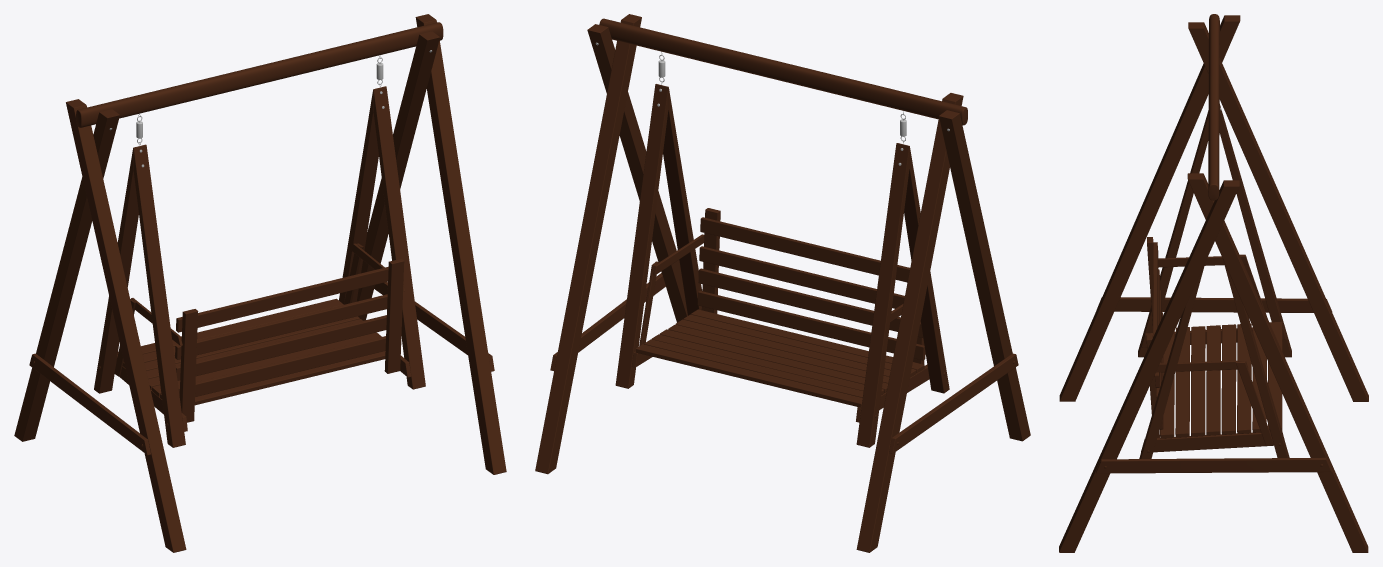
The model's file is qiuqian2.fbx.
The picture shows the model from 3 angles, left to right: view 1: azimuth 30°, elevation 25°; view 2: azimuth 150°, elevation 25°; view 3: azimuth 270°, elevation 25°; orthographic projection. The views are drawn at different scales.
Visible parts, largest first — view 1: polySurface599, polySurface629, polySurface630; view 2: polySurface599, polySurface629, polySurface630; view 3: polySurface599, polySurface629, polySurface630.
Boxes of the visible parts, x1,y1,x2,y2 form: polySurface599: [14, 14, 506, 552]; polySurface629: [114, 243, 404, 422]; polySurface630: [94, 55, 425, 447]; polySurface599: [535, 14, 1030, 552]; polySurface629: [635, 208, 925, 407]; polySurface630: [615, 52, 949, 447]; polySurface599: [1059, 14, 1368, 552]; polySurface629: [1146, 237, 1282, 445]; polySurface630: [1138, 104, 1291, 458].
Bounding box in the file's own units: 72.87 × 74.37 × 55.66.
2 materials, 1 textured.
